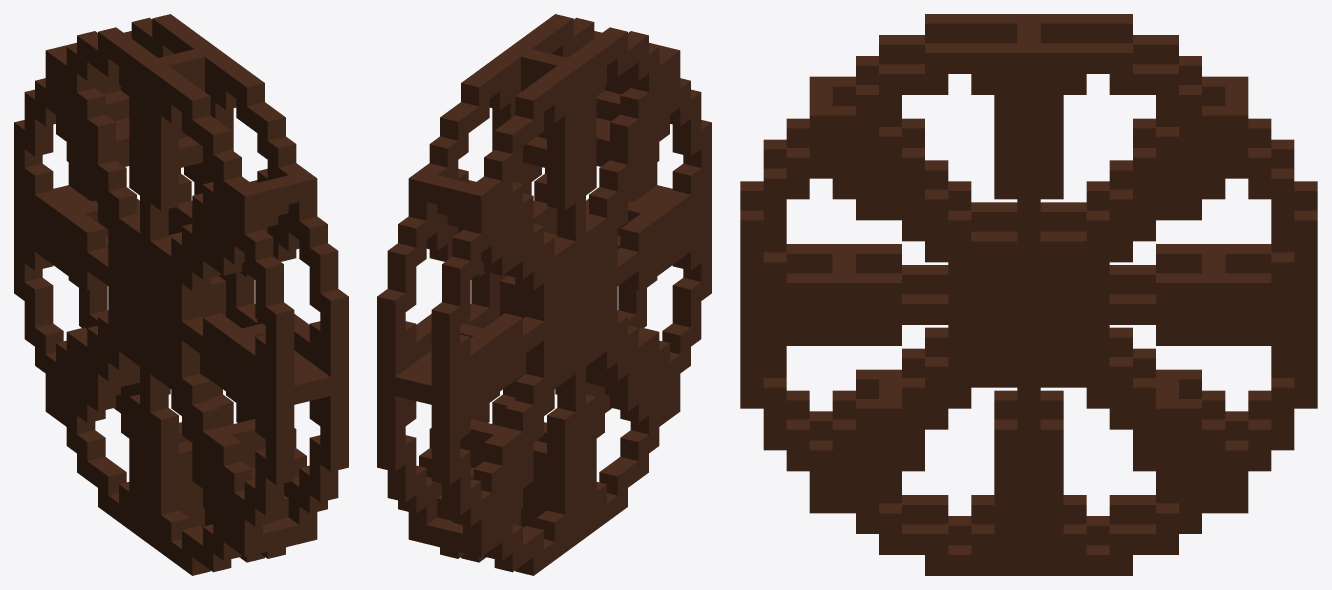
Rendered from lvl1-28.obj.
3 renders of one model, left to right at view 1: azimuth 30°, elevation 25°; view 2: azimuth 150°, elevation 25°; view 3: azimuth 270°, elevation 25°, orthographic. The views are drawn at different scales.
Bounding box in the file's own units: 0.8 × 5 × 5.
Materials: 1 (1 with a texture image).
